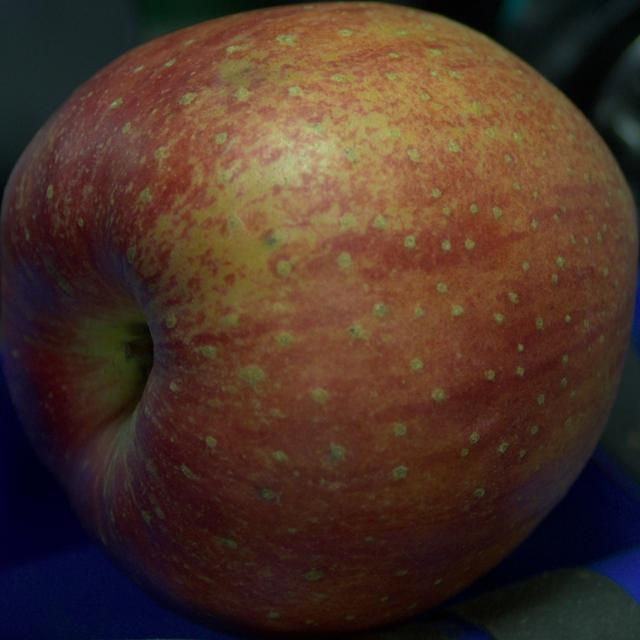apple: (0, 2, 639, 637)
